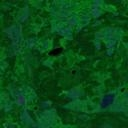alloviz: (47, 46, 64, 57)
